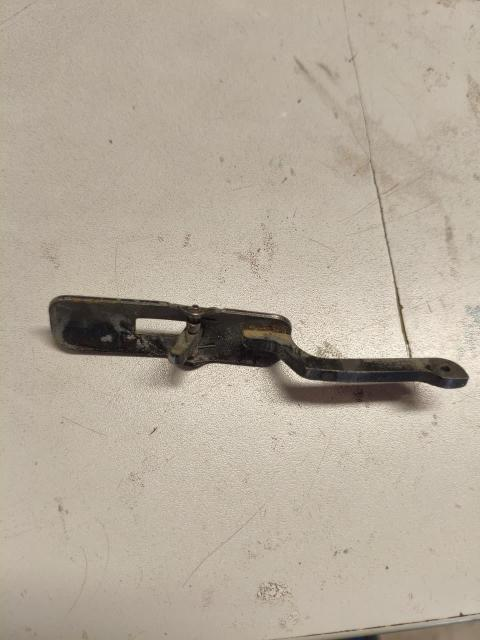Metal: (51, 293, 480, 403)
